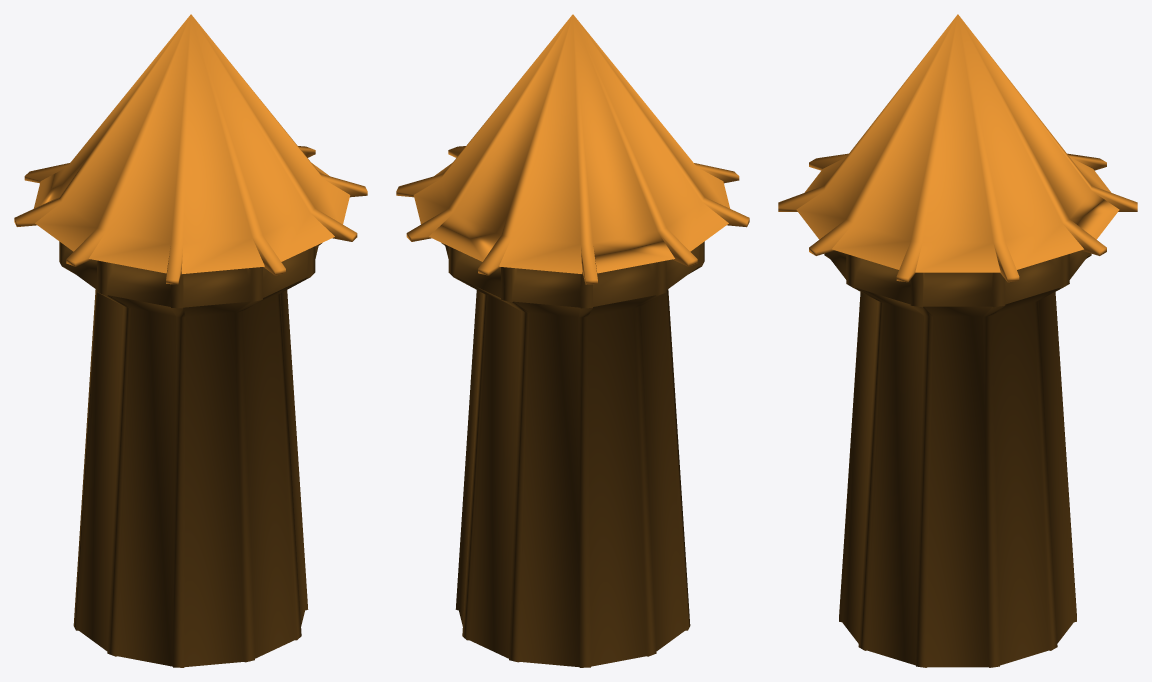
Rendered from ArrowTowerModel.fbx.
The picture shows the model from 3 angles, left to right: view 1: azimuth 30°, elevation 25°; view 2: azimuth 150°, elevation 25°; view 3: azimuth 270°, elevation 25°; orthographic projection.
Visible parts, largest first — view 1: Икосфера.013; view 2: Икосфера.013; view 3: Икосфера.013.
Boxes of the visible parts, left/top/right/bottom form: Икосфера.013: left=14, top=14, right=367, bottom=667; Икосфера.013: left=396, top=14, right=749, bottom=667; Икосфера.013: left=778, top=14, right=1137, bottom=667.
Bounding box in the file's own units: 172 × 332 × 179.
